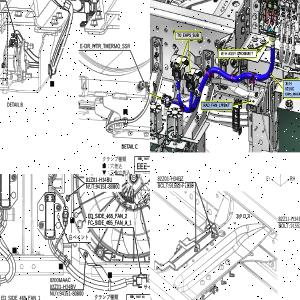PartNumber: (49, 282, 77, 290), (85, 176, 114, 183), (95, 183, 120, 190), (157, 175, 184, 181), (59, 290, 85, 296), (277, 215, 300, 221), (170, 183, 194, 188), (290, 223, 300, 228)
